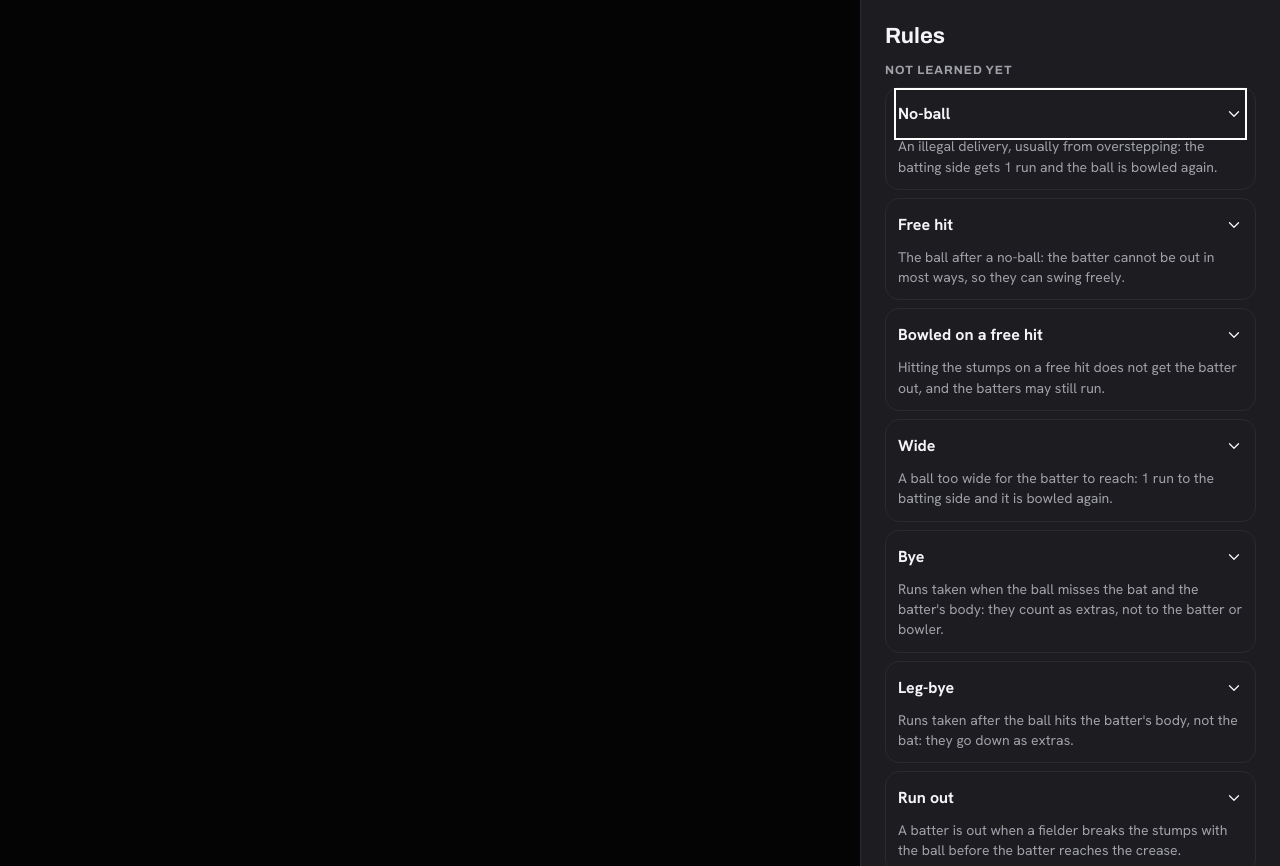
Test: GlossarySheet › expands one rule at a time to show its detail
Expected: the text "Only a run out, hitting the ball twice" is not shown
Step 1. Click the button with aria-label "Show details for Free hit" → (926, 224), box [898,203,1243,247]
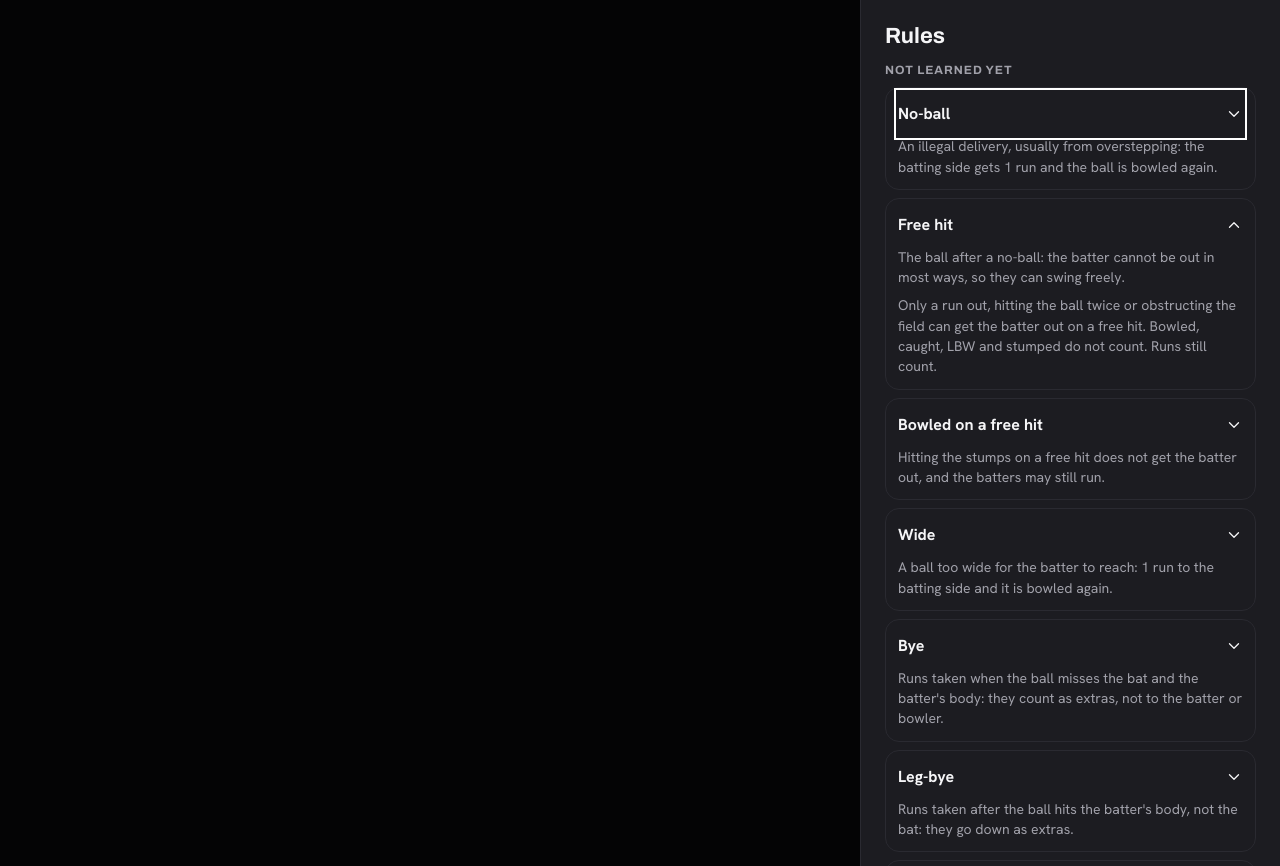
Expected: the text "Only a run out, hitting the ball twice" is shown, [898,296,1236,375]
Step 2. Click the button with aria-label "Show details for Wide" → (917, 535), box [898,513,1243,557]
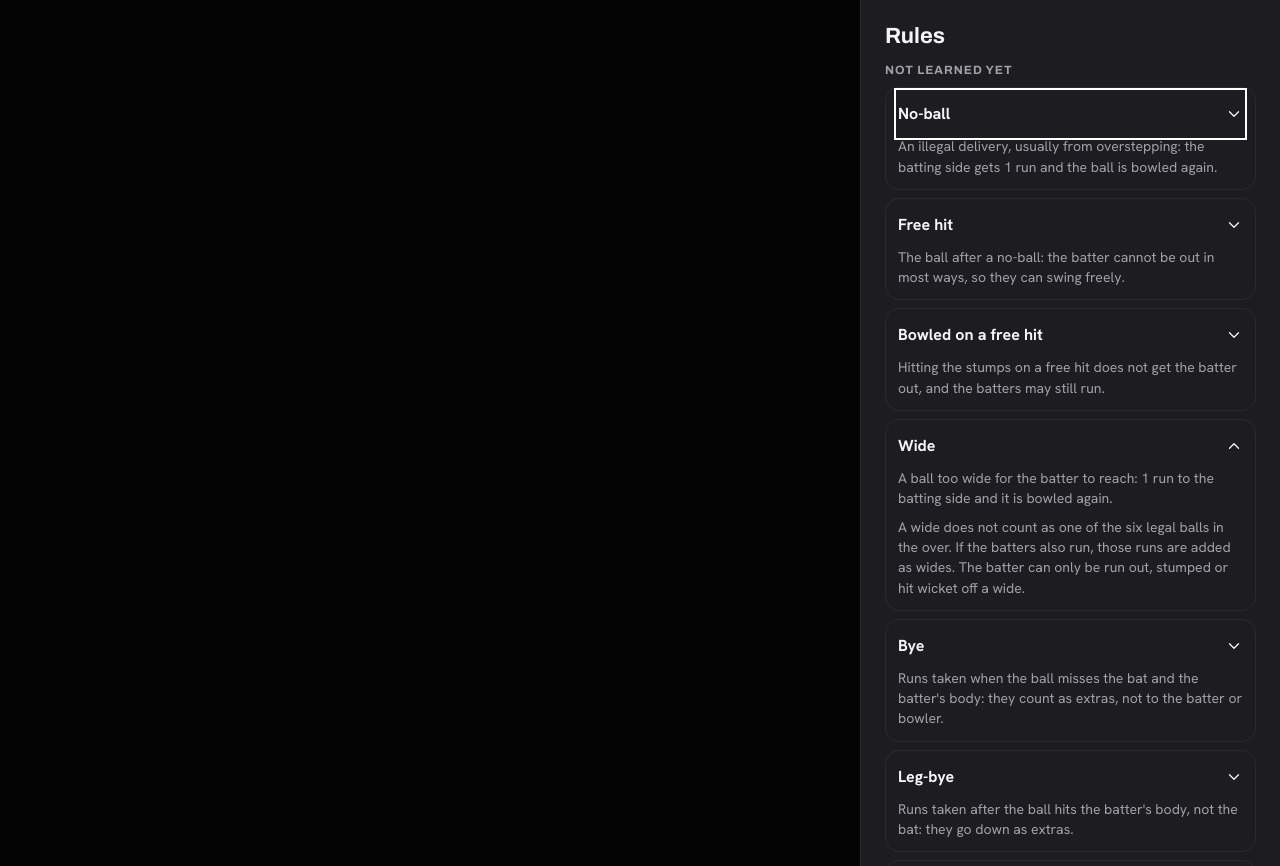
Expected: the text "Only a run out, hitting the ball twice" is gone
Expected: the button with aria-label "Hide details for Wide" is expanded, [898,424,1243,468]
